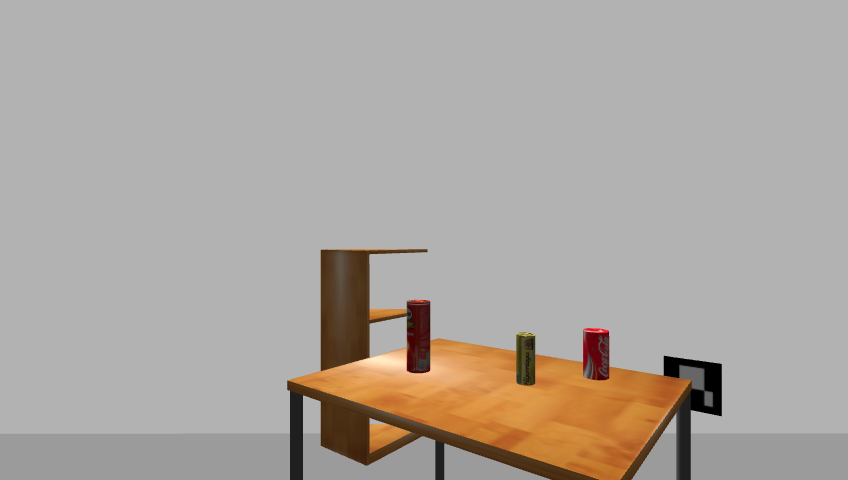aruco marker: (659, 353, 728, 419)
biscuits pack: (515, 332, 536, 387)
bookshelf: (315, 244, 433, 470)
coke can: (582, 328, 612, 381)
dinner table: (281, 341, 702, 479)
pringles can: (404, 300, 433, 376)
